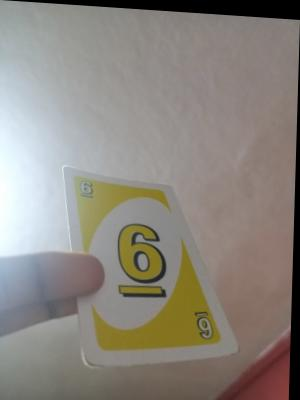num_6: (74, 175, 117, 229)
yellow: (113, 213, 189, 345)
